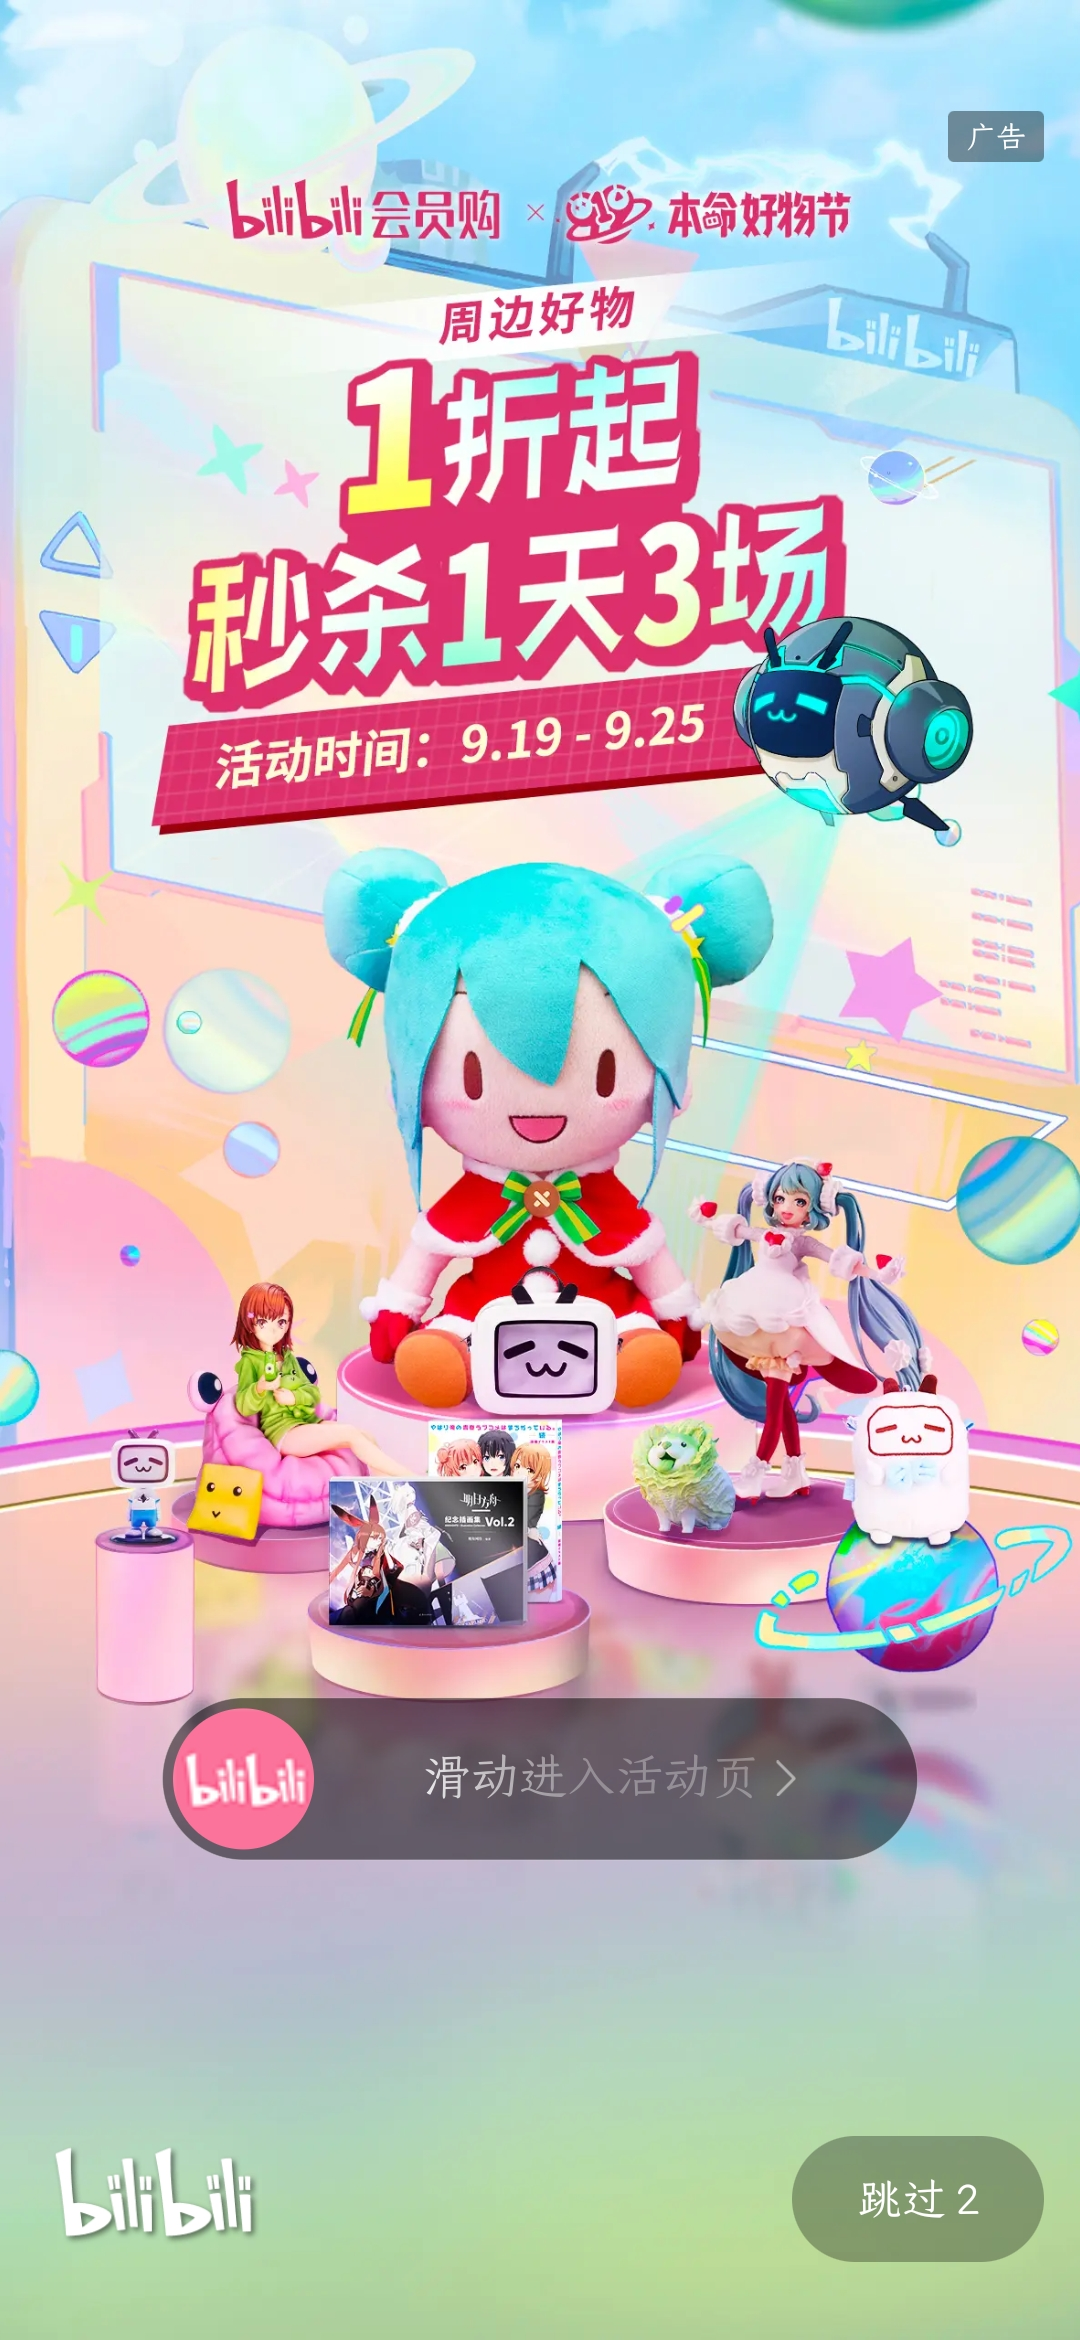skip: (828, 2145, 996, 2256)
